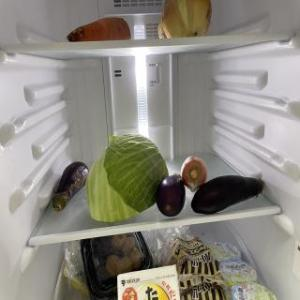cabbage: (86, 134, 168, 222)
carrot: (67, 18, 131, 42), (179, 154, 207, 188)
eggplant: (192, 176, 266, 214), (52, 160, 90, 210), (158, 171, 186, 215)
onion: (159, 0, 211, 39)
